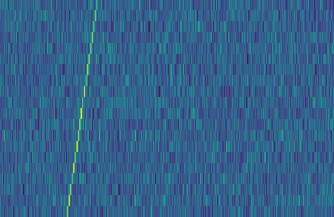signal: (61, 0, 101, 217)
